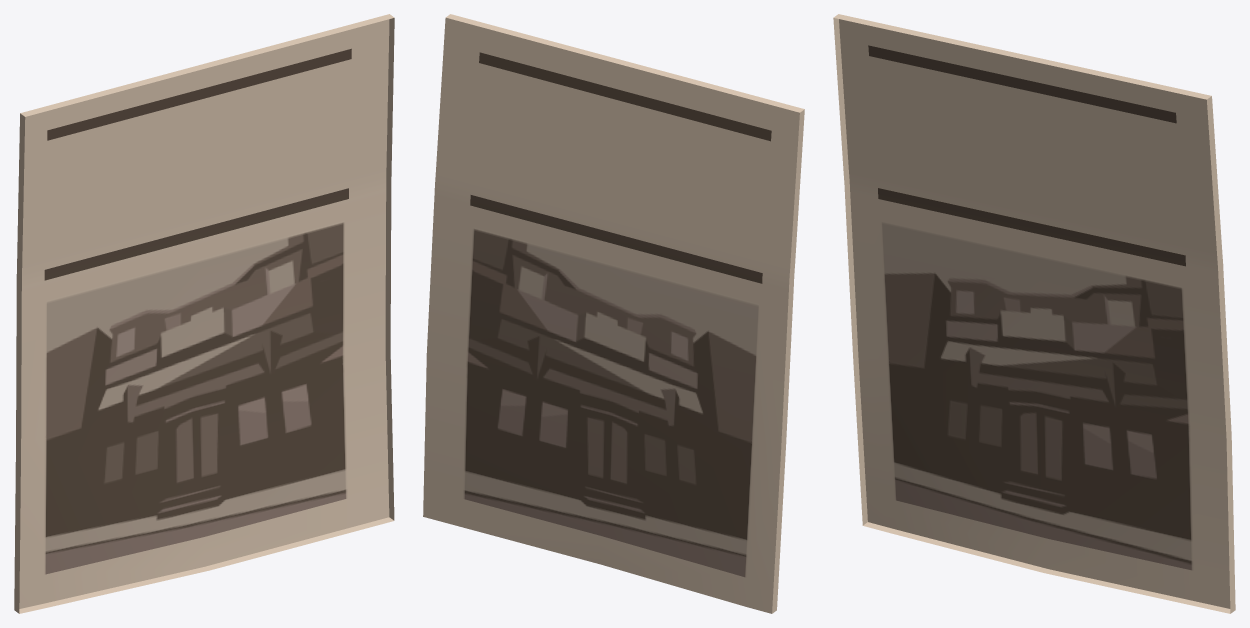
The model's file is valikko_aloita.fbx.
The picture shows the model from 3 angles, left to right: view 1: azimuth 30°, elevation 25°; view 2: azimuth 150°, elevation 25°; view 3: azimuth 330°, elevation 25°; orthographic projection. The views are drawn at different scales.
Parts seen in each view (by area): view 1: valikko_aloita; view 2: valikko_aloita; view 3: valikko_aloita.
Boxes of the visible parts, x1=… form: valikko_aloita: x1=14, y1=14, x2=394, y2=613; valikko_aloita: x1=423, y1=14, x2=804, y2=613; valikko_aloita: x1=833, y1=14, x2=1235, y2=613.
Size of the model in its own units: 28.14 by 36.81 by 2.89.
